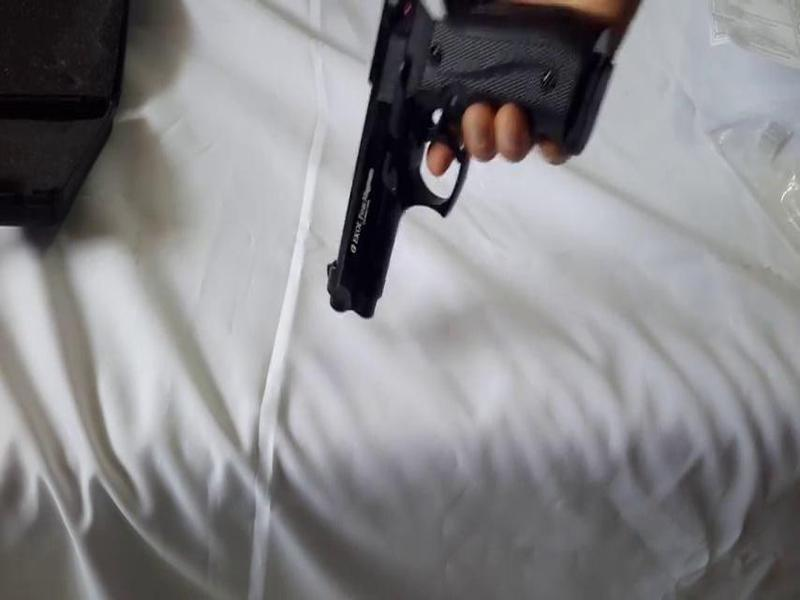Pistola: (316, 1, 618, 319)
